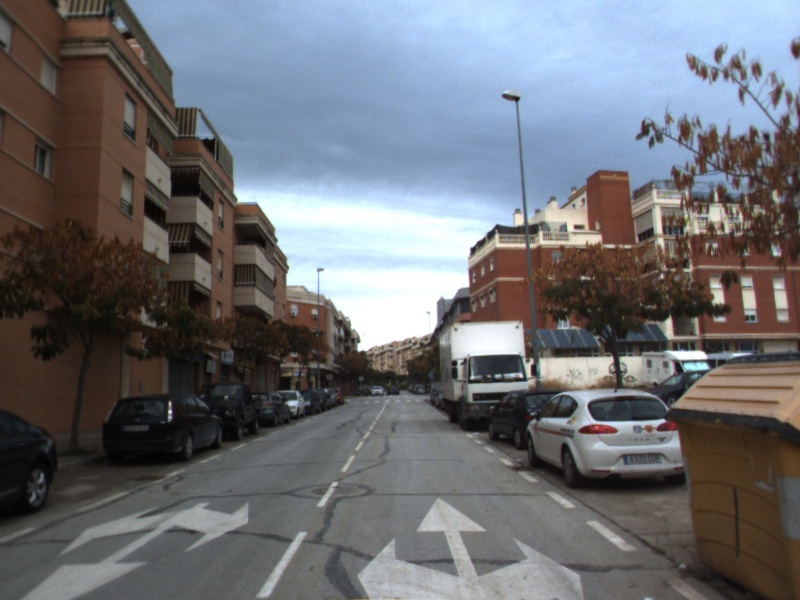STRAIGHT_LEFT_RIGHT: (354, 491, 588, 600)
